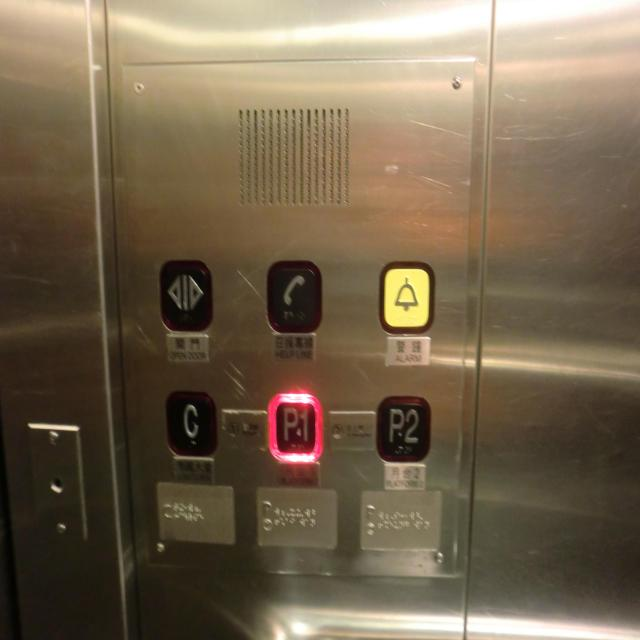C: (165, 388, 217, 457)
P1: (266, 388, 324, 466)
P2: (377, 394, 432, 464)
alarm: (378, 259, 435, 335)
call: (265, 261, 322, 335)
open: (158, 259, 214, 334)
